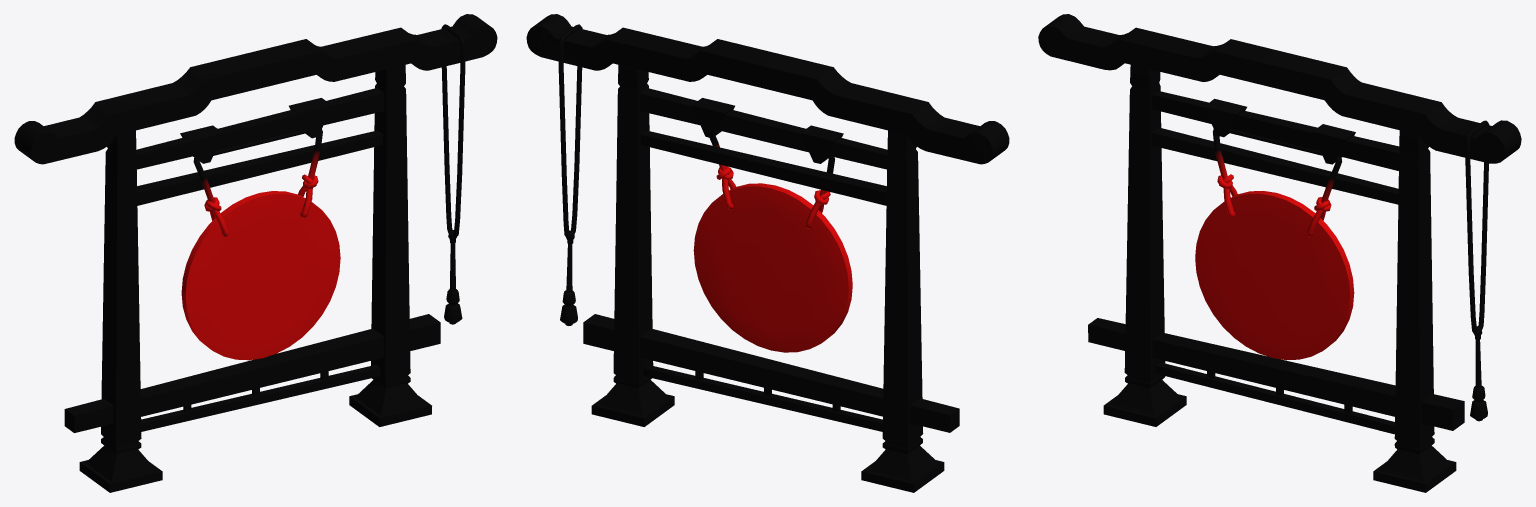
Rendered from Drums2.fbx.
3 views of the same model, side by side, from view 1: azimuth 30°, elevation 25°; view 2: azimuth 150°, elevation 25°; view 3: azimuth 330°, elevation 25° (orthographic).
Visible parts, largest first — view 1: Default__Asteria_Dojo_Gong_A_C; view 2: Default__Asteria_Dojo_Gong_A_C; view 3: Default__Asteria_Dojo_Gong_A_C.
Boxes of the visible parts, bbox=[...] form: Default__Asteria_Dojo_Gong_A_C: bbox=[14, 14, 497, 492]; Default__Asteria_Dojo_Gong_A_C: bbox=[526, 14, 1009, 492]; Default__Asteria_Dojo_Gong_A_C: bbox=[1038, 14, 1521, 492].
Bounding box in the file's own units: 365 × 287 × 41.13.
